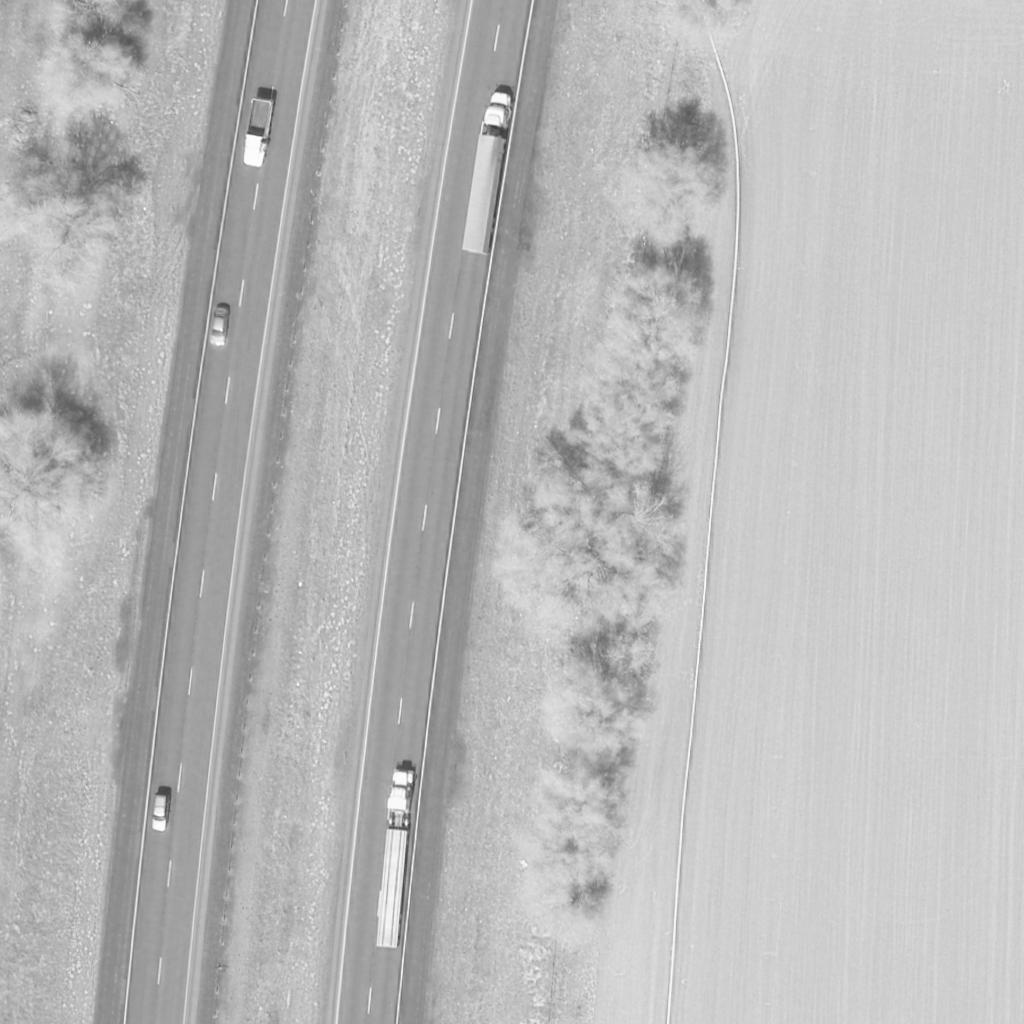vehicle: (462, 91, 516, 257), (373, 768, 419, 948), (241, 100, 275, 170), (208, 309, 230, 345), (151, 796, 171, 832)
